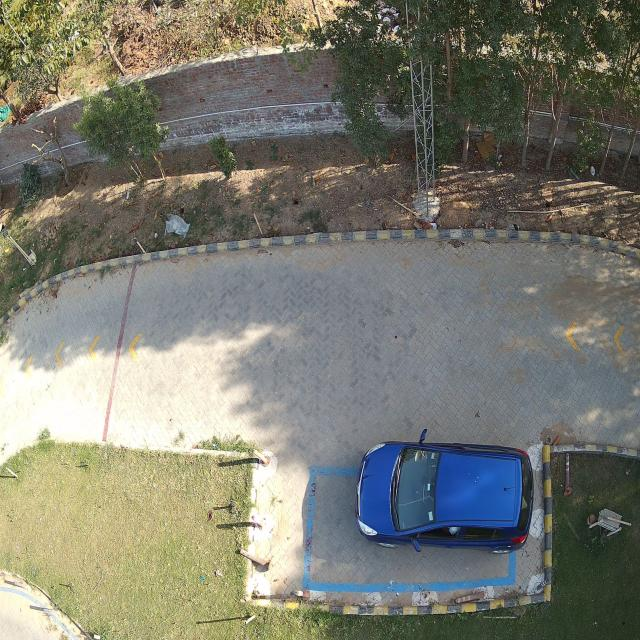car: (355, 432, 534, 553)
